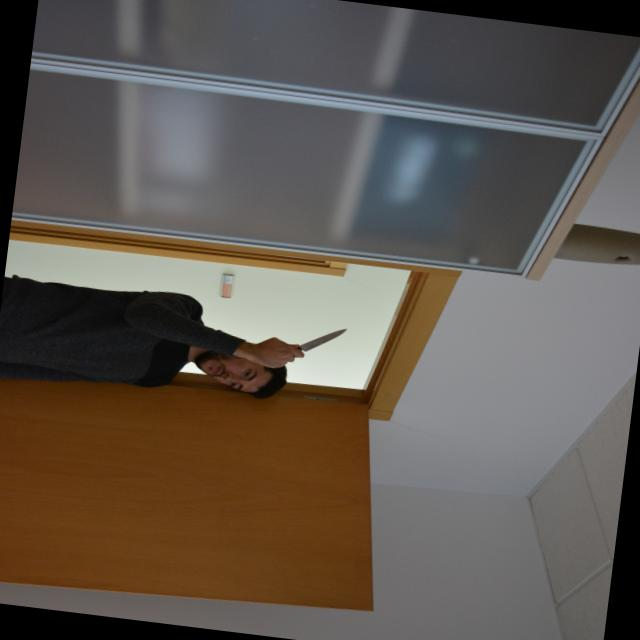knife: (288, 320, 350, 360)
